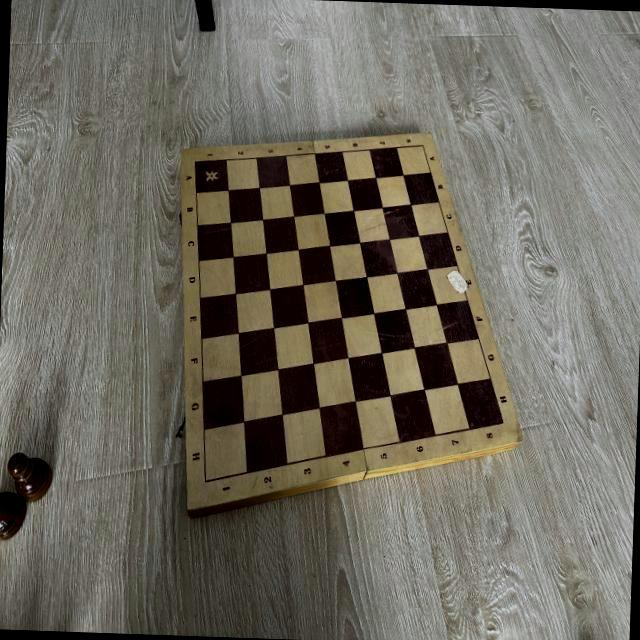chess-table-corners: (496, 414, 509, 431), (200, 476, 210, 487), (418, 140, 426, 150), (192, 156, 198, 168)
